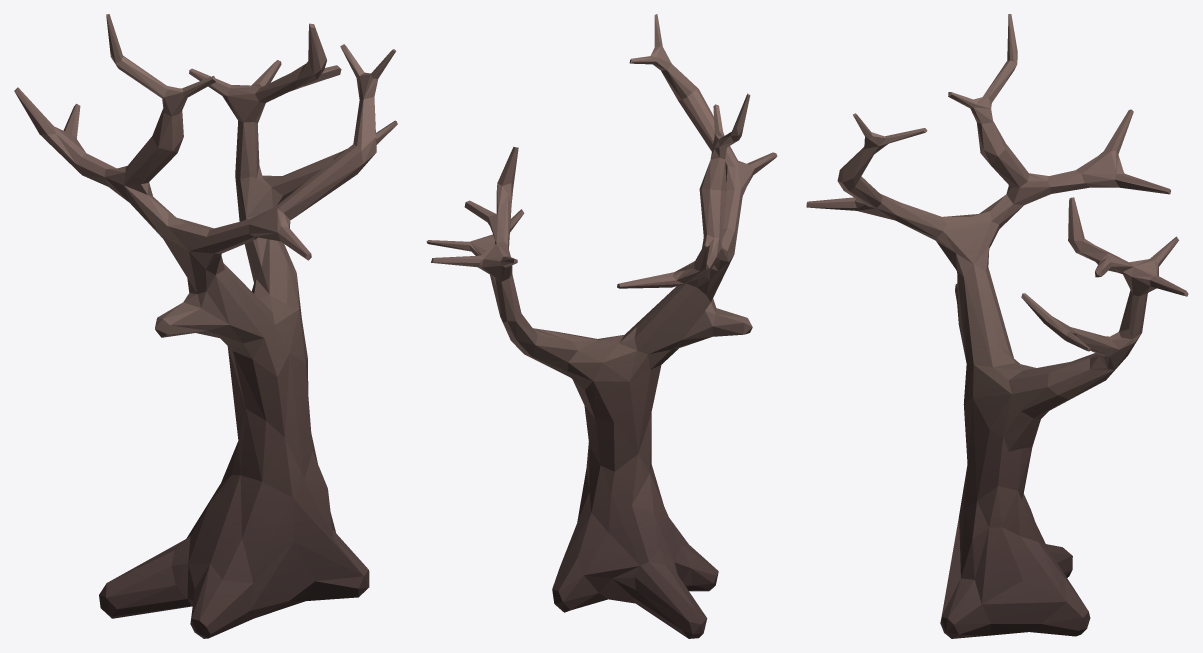
The model's file is tree3.glb.
The picture shows the model from 3 angles, left to right: view 1: azimuth 30°, elevation 25°; view 2: azimuth 150°, elevation 25°; view 3: azimuth 270°, elevation 25°; orthographic projection. The views are drawn at different scales.
Visible parts, largest first — view 1: tree3; view 2: tree3; view 3: tree3.
Part boxes in pixels (x1,y1,x2,y2): tree3: [14, 14, 397, 638]; tree3: [426, 14, 777, 638]; tree3: [806, 14, 1188, 638].
Bounding box in the file's own units: 3.35 × 5.65 × 3.55.
Materials: 1 (1 with a texture image).
